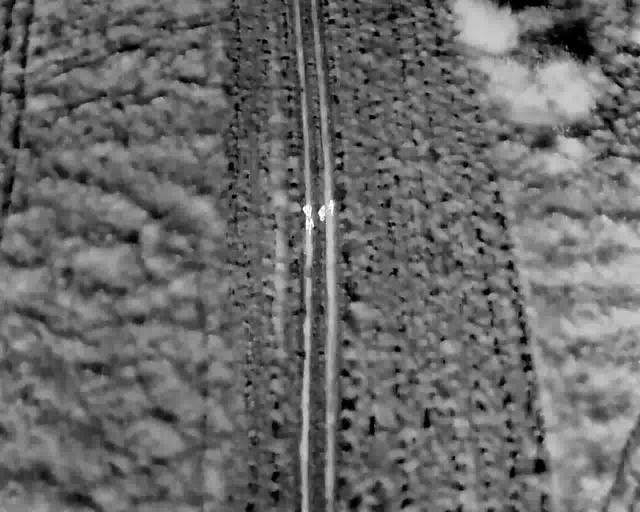person: (316, 202, 327, 223), (304, 215, 314, 235), (327, 196, 336, 218), (302, 202, 312, 221)
